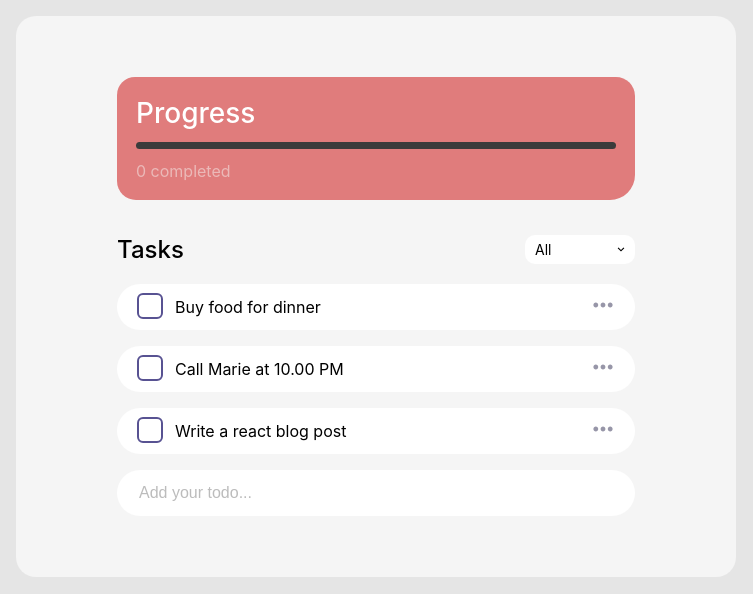
should complete a todo
The image size is (753, 594).
Expected: the number of elements with test id "todo-item" is 3, [117,284,635,330]; [117,346,635,392]; [117,408,635,454]
Expected: the text "0 completed" is shown, [136,161,230,181]
Click the element with test id "checkbox-span" next to "Buy food for dinner" at (150, 306), box [137,293,163,319]
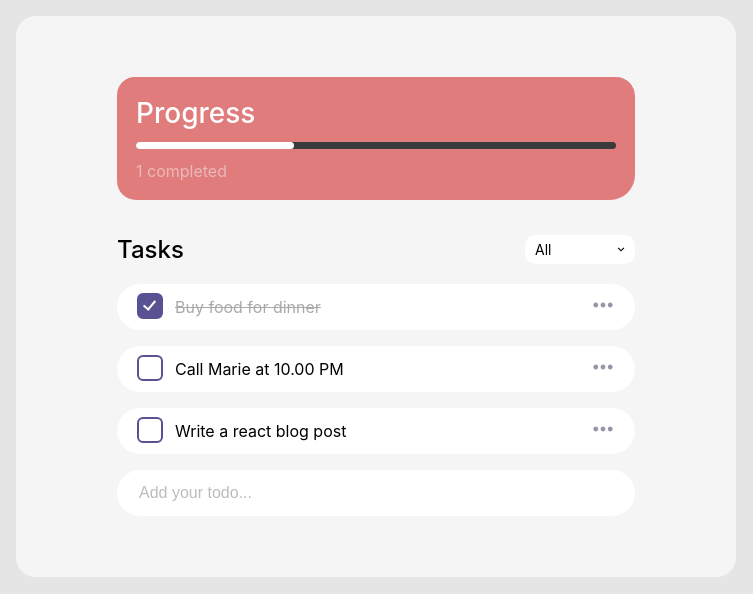
Now the text "1 completed" is shown, box [136,161,227,181]
